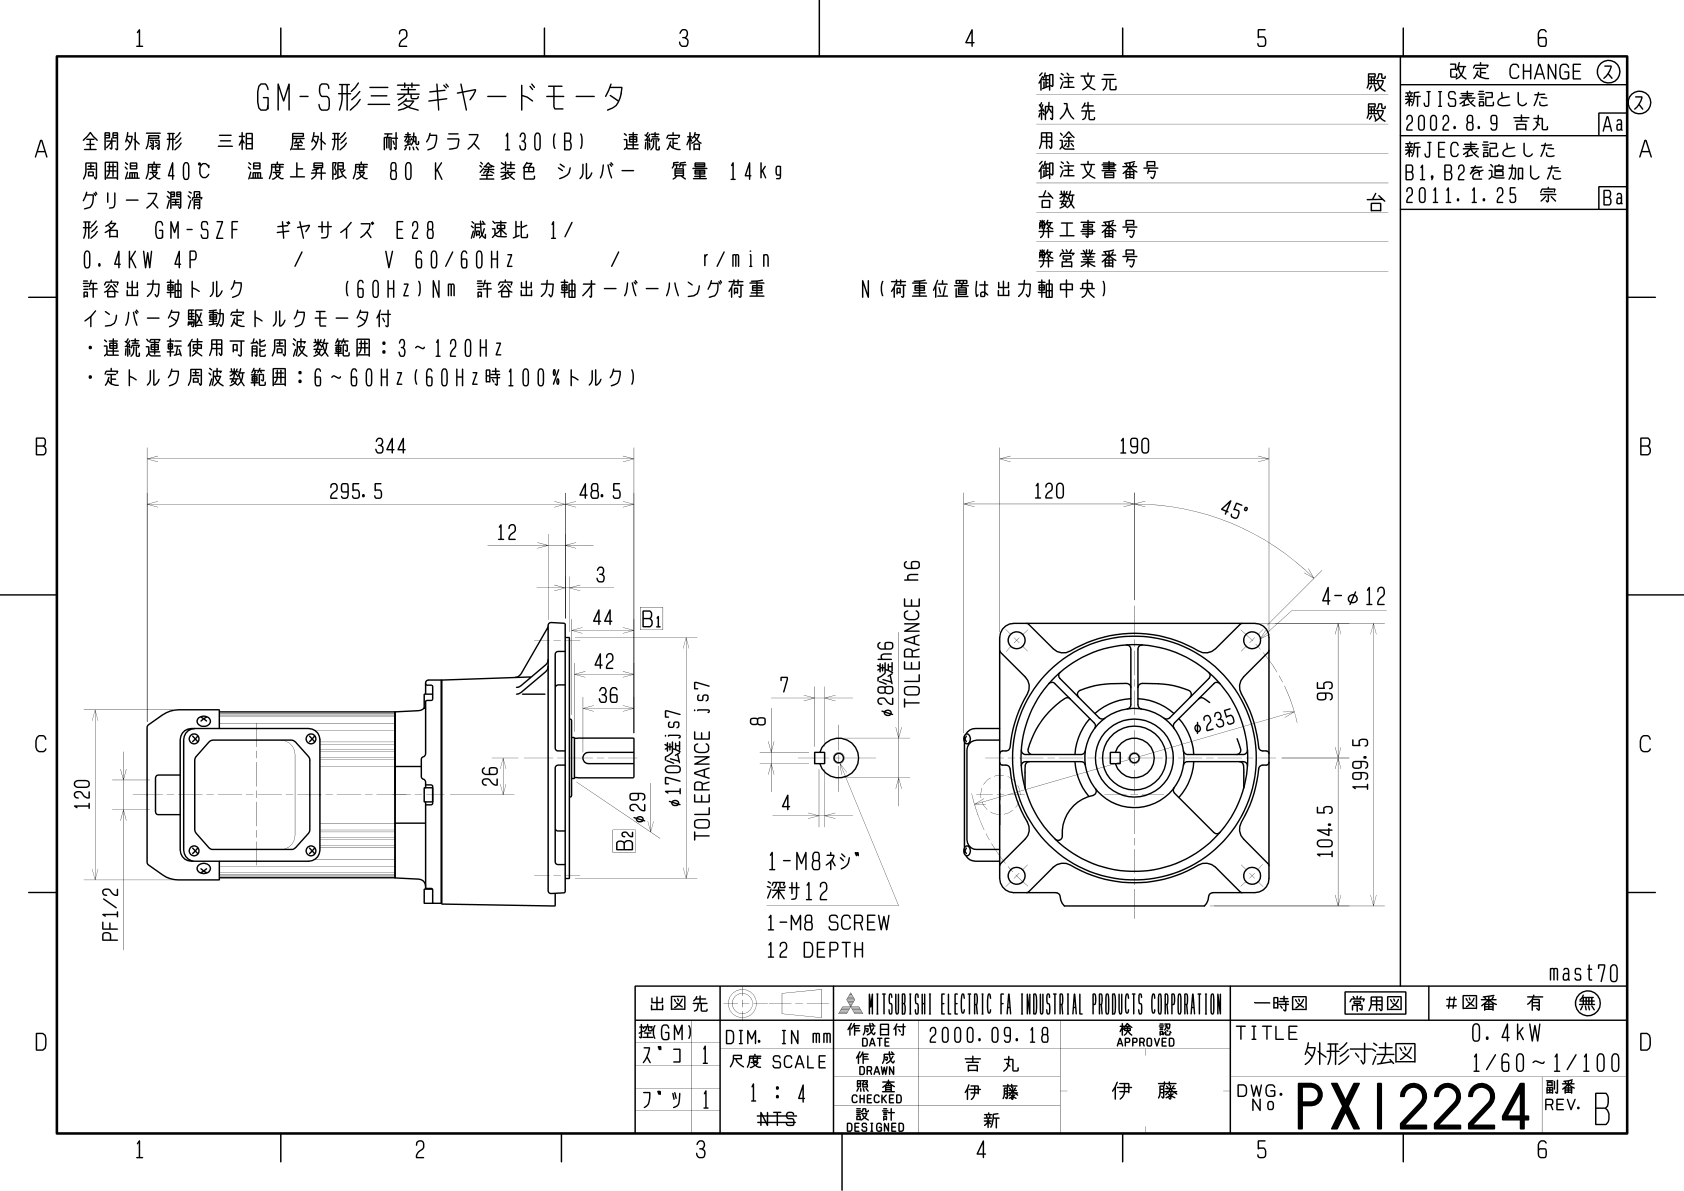GM_S_インバタ屋外＿三相_フランジ: (6, 10, 1684, 1191)
